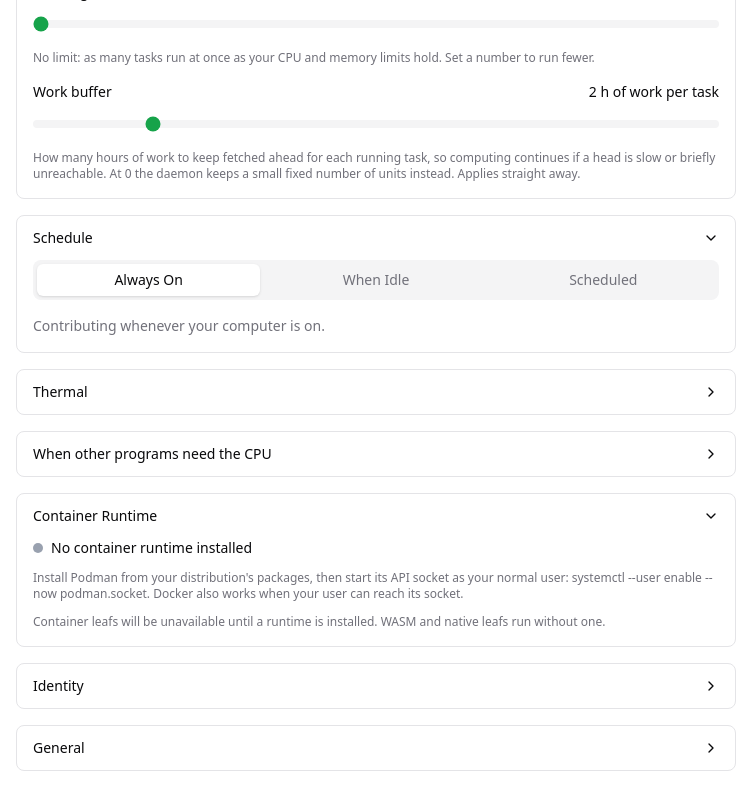
Test: SettingsPage › says the GPU thresholds still apply when only the CPU cannot be read
This screenshot has width=753, height=795.
(page scrolled)
Click the button "Thermal" at (60, 392), box [17,370,735,414]
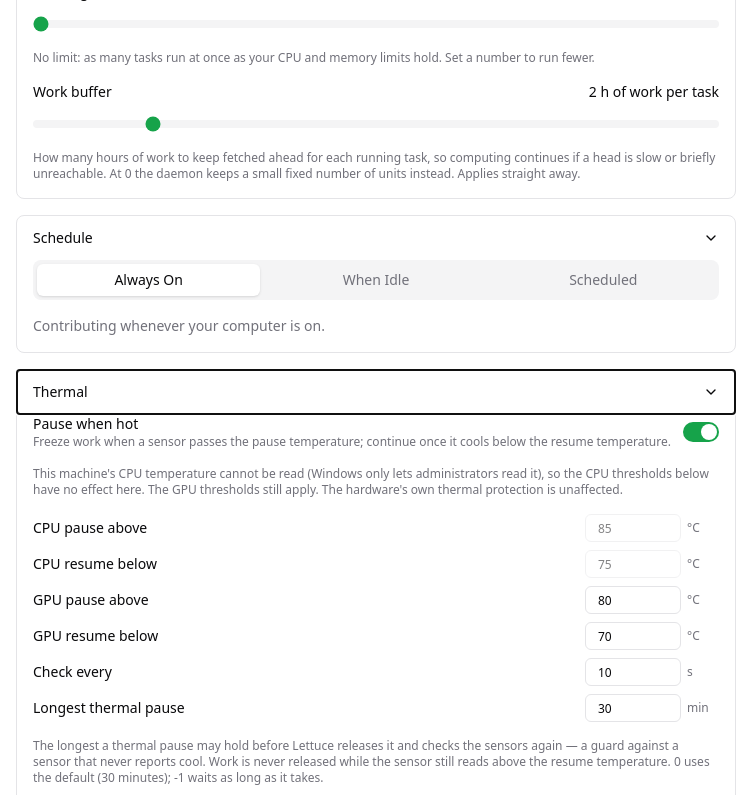
Check: the text with test id "thermal-cpu-unreadable" shows "The GPU thresholds still apply", box [145,481,319,498]
Check: the number field labelled "GPU pause above" is enabled, box [585,586,681,614]
